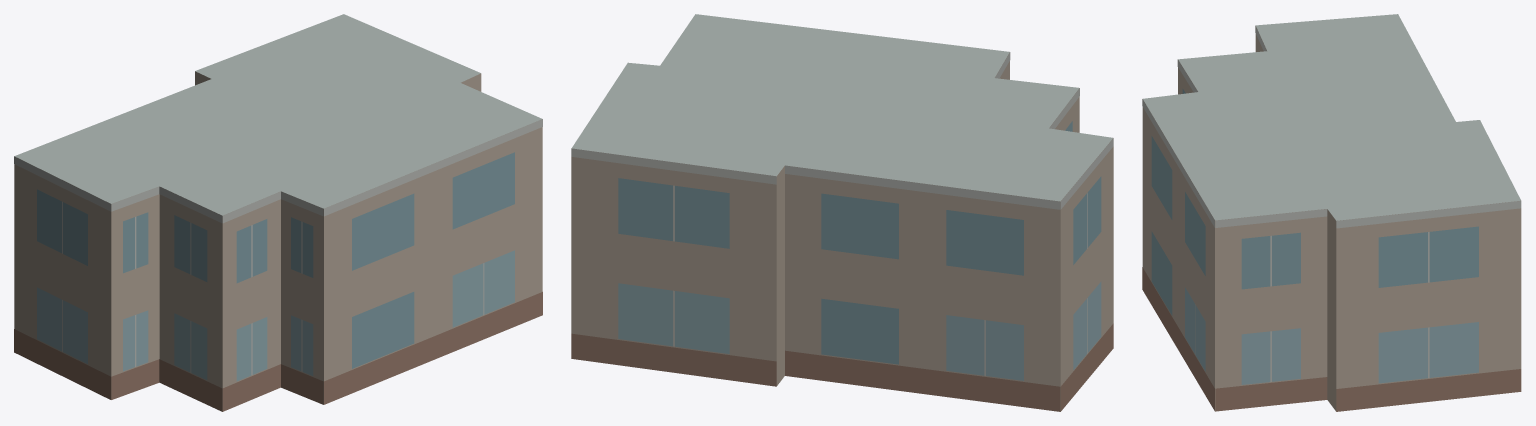
The model's file is survey-upis-32711696.glb.
3 renders of one model, left to right at view 1: azimuth 30°, elevation 25°; view 2: azimuth 150°, elevation 25°; view 3: azimuth 270°, elevation 25°, orthographic. The views are drawn at different scales.
Visible parts, largest first — view 1: survey-upis-32711696.tmp; view 2: survey-upis-32711696.tmp; view 3: survey-upis-32711696.tmp.
Part boxes in pixels (<box>): survey-upis-32711696.tmp: <box>14,14,542,411</box>; survey-upis-32711696.tmp: <box>571,14,1113,411</box>; survey-upis-32711696.tmp: <box>1142,14,1521,411</box>.
Bounding box in the file's own units: 14.18 × 6.1 × 10.97.
